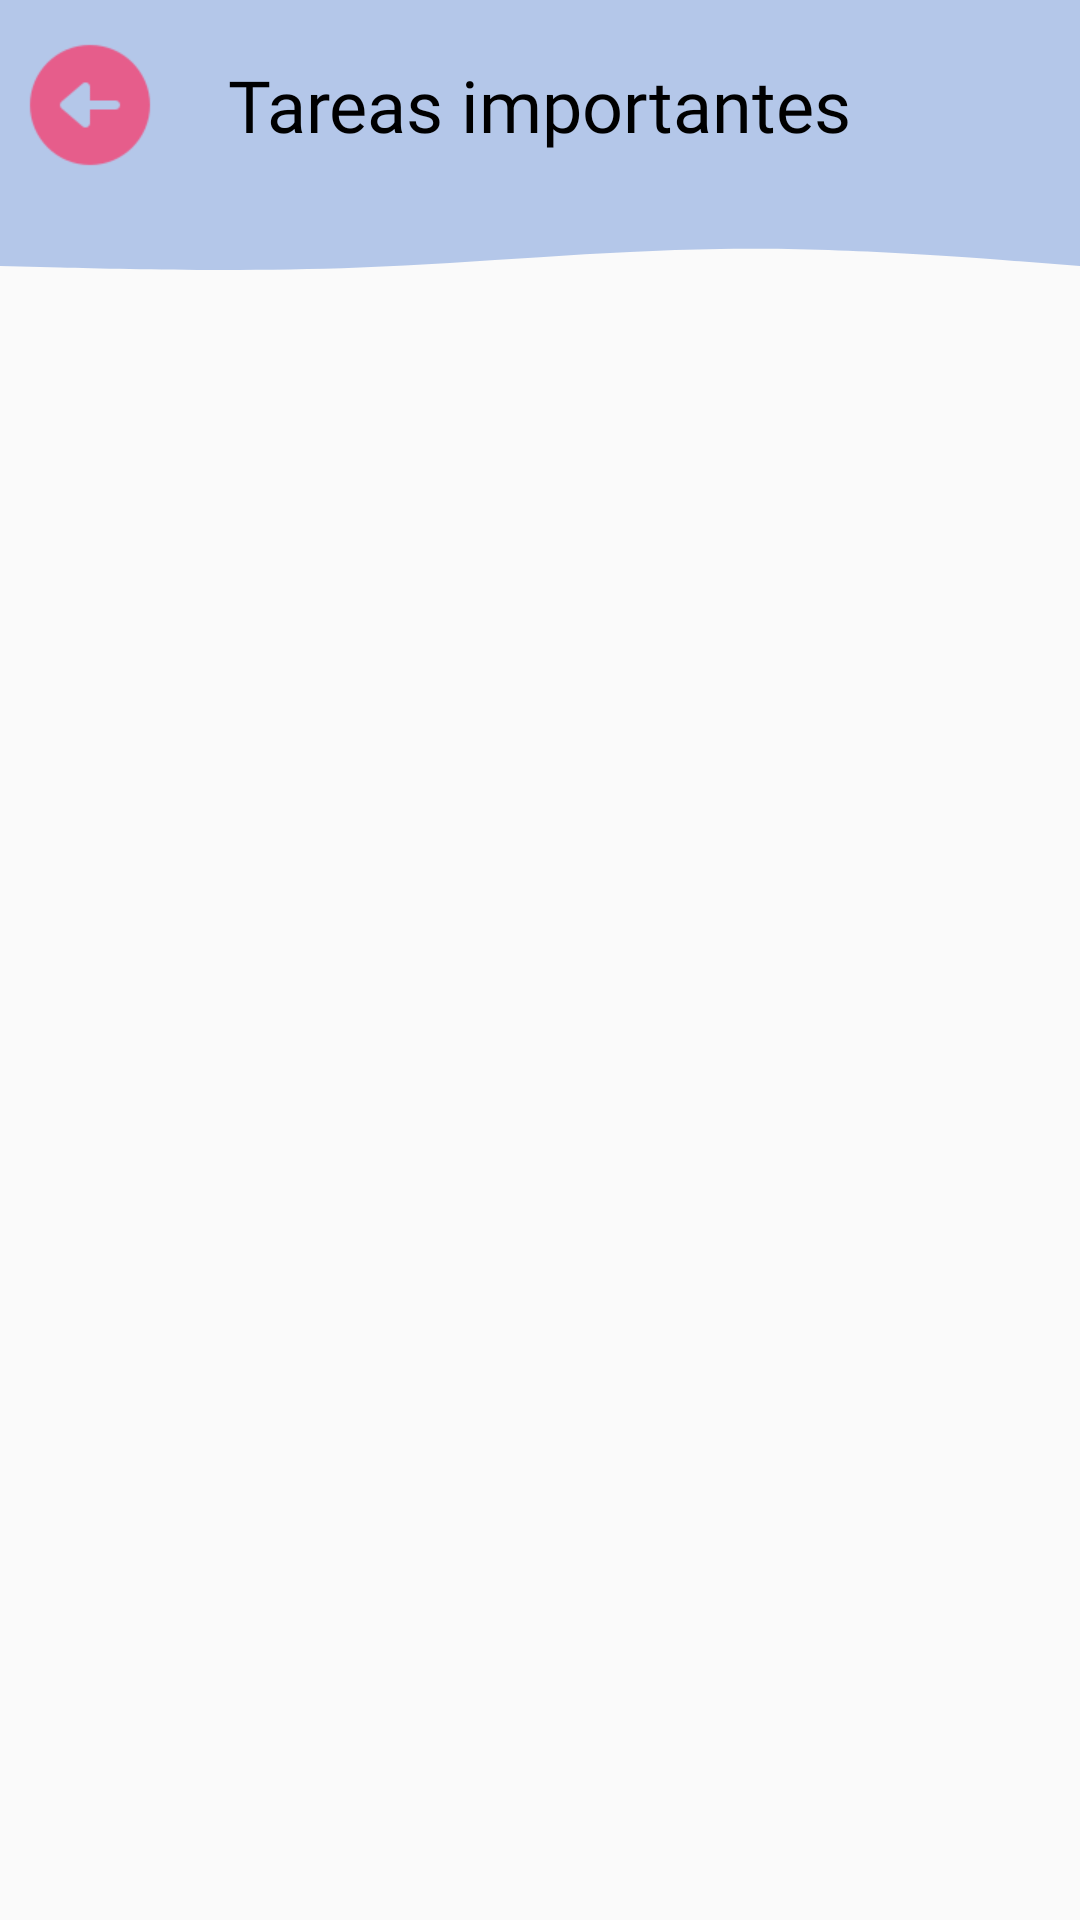

Named icons in this screenshot (1080x1920) and their bounding boxes, (x1, y1, x2, y2):
salir: (30, 45, 150, 165)
